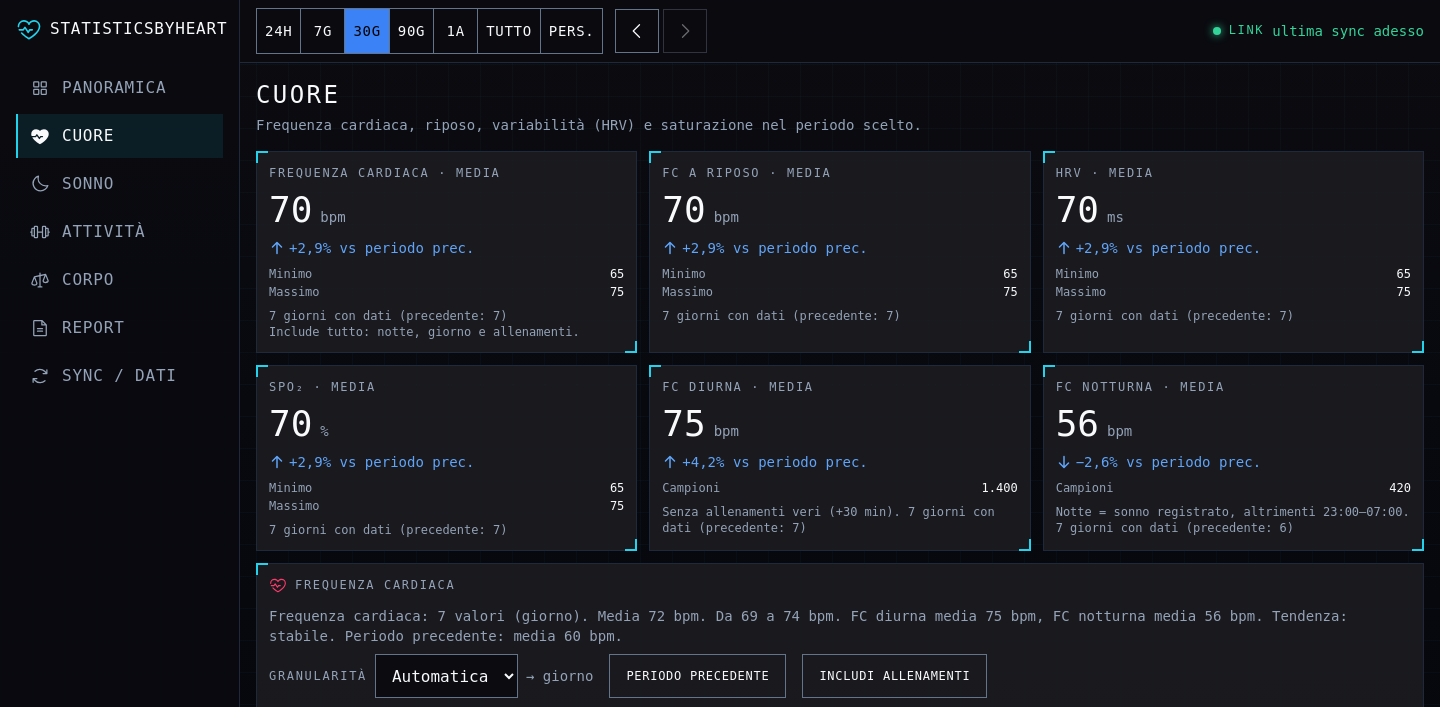
Test: range arrows › step back by the window length, put it in the URL and disable "next" at today
The image size is (1440, 707).
Expected: the button named "Intervallo successivo" is disabled, [664, 9, 708, 53]
Click the button named "Intervallo precedente": (638, 31) [616, 9, 660, 53]
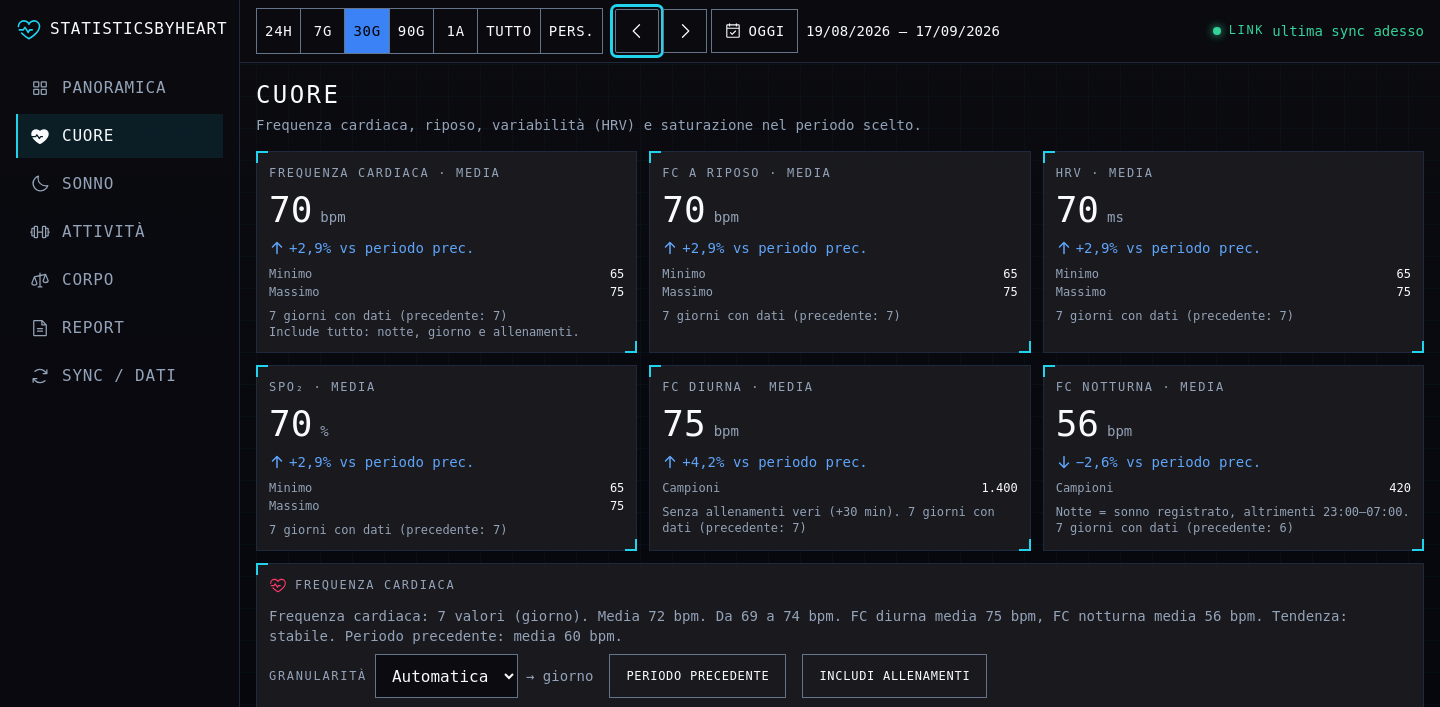
Result: the text "19/08/2026 – 17/09/2026" is shown at [802, 21, 1004, 41]
Result: the button named "Intervallo successivo" is enabled
Click the button named "Intervallo successivo": (686, 31) [664, 9, 708, 53]
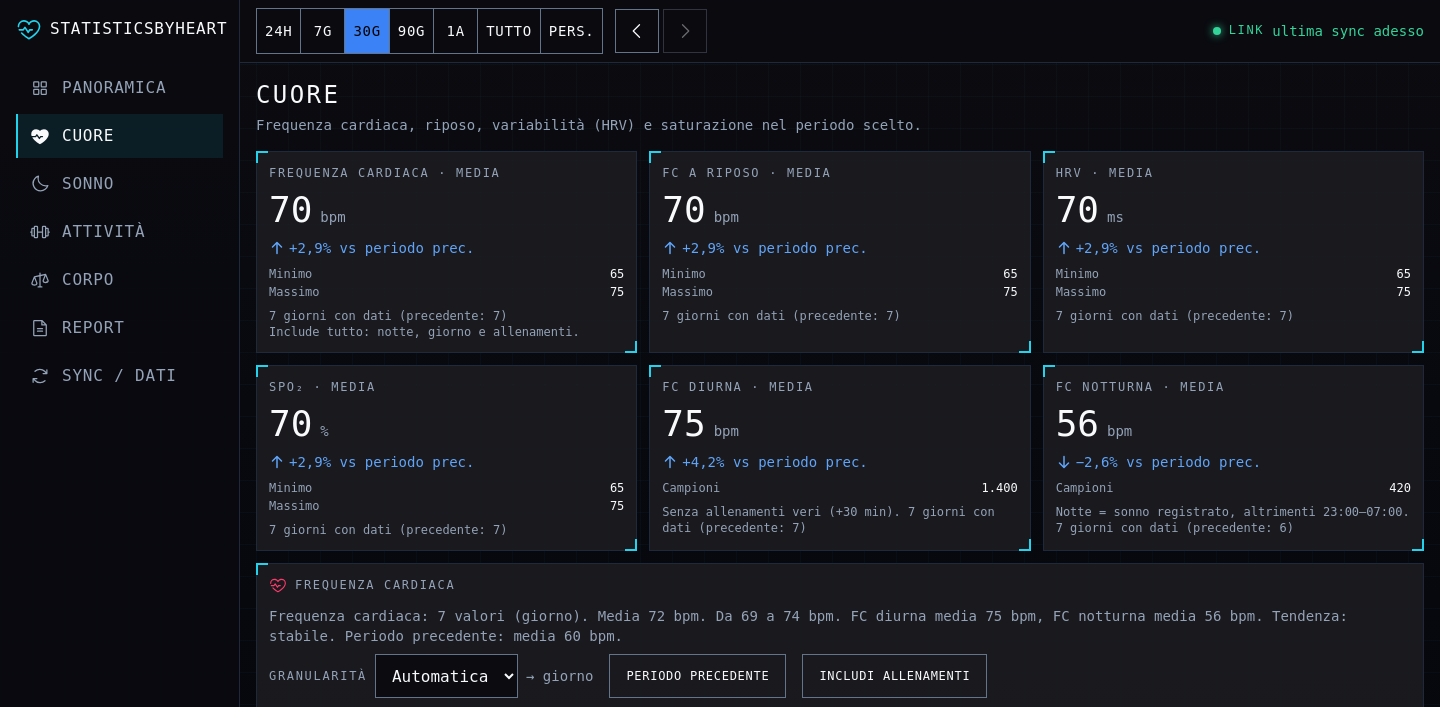
Result: the text with test id "range-window" is gone
